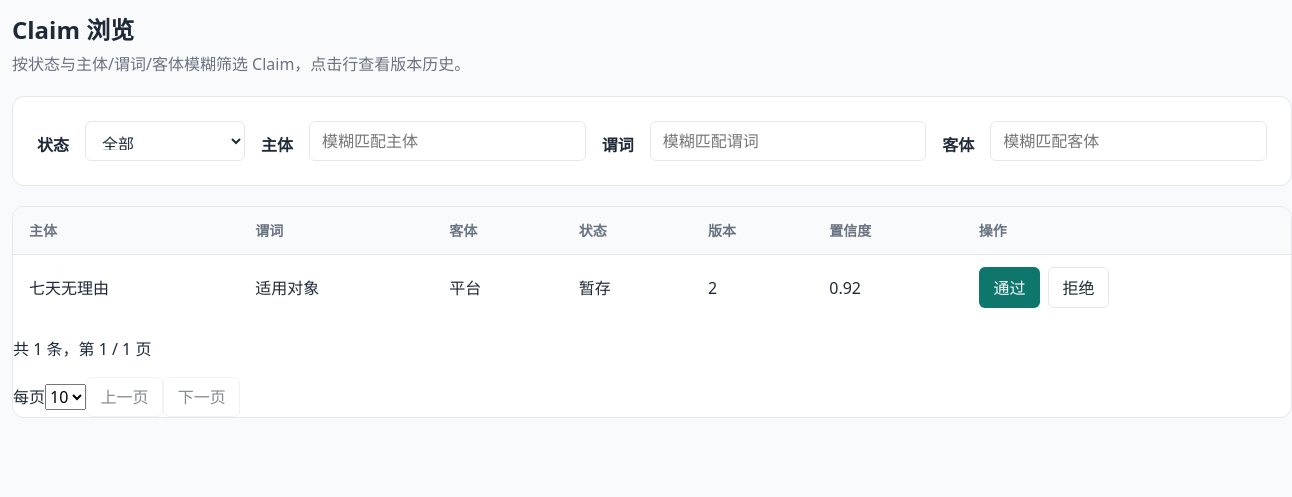
Test case: ClaimsPage › rejects staging claim after confirm and reloads list
Check: the text "平台" is shown, box x1=433 y1=254 x2=563 y2=321
Click the button "拒绝".
click(1079, 288)  # box x1=1048 y1=267 x2=1109 y2=308
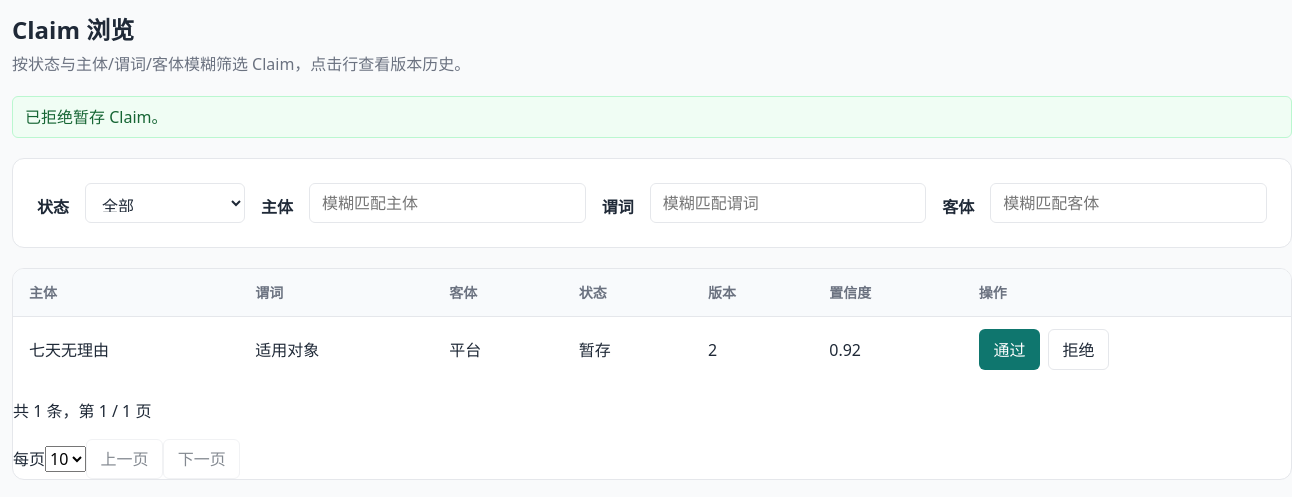
Check: the text "已拒绝暂存 Claim。" is shown, box x1=12 y1=96 x2=1291 y2=138
